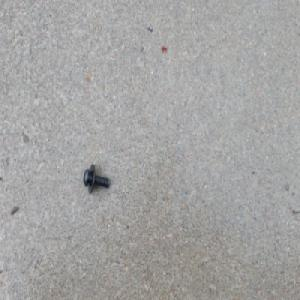BoltWasher: (82, 163, 109, 194)
